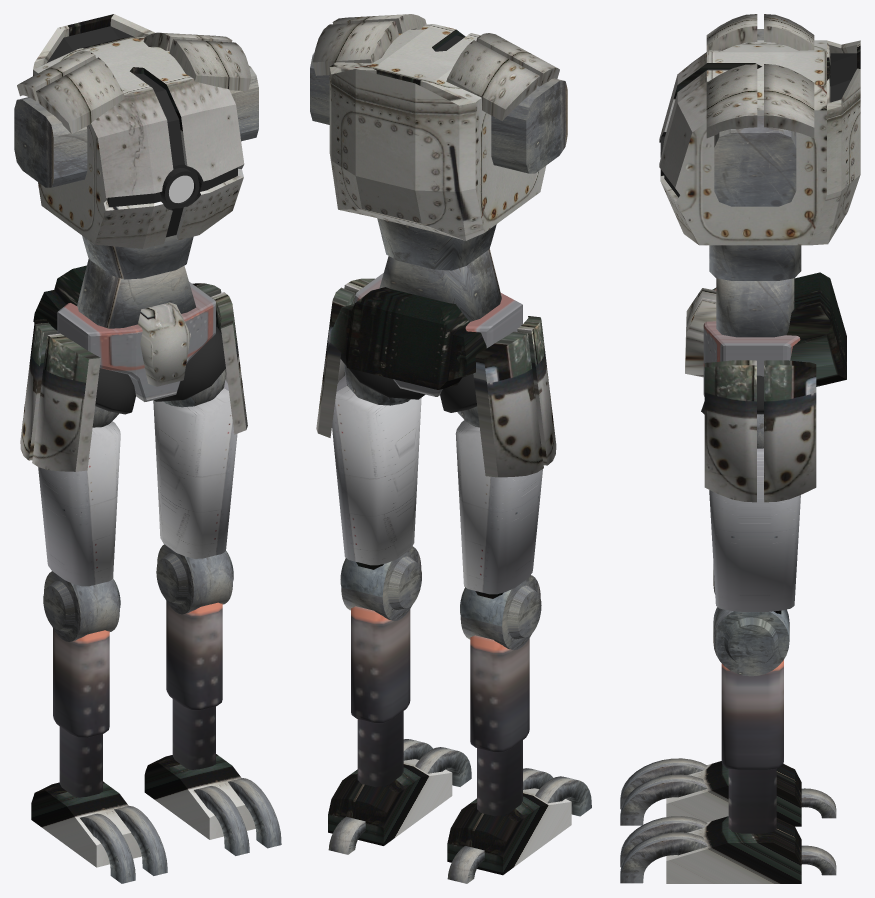
File: Robot 5 chasis and legs.fbx
3 renders of one model, left to right at view 1: azimuth 30°, elevation 25°; view 2: azimuth 150°, elevation 25°; view 3: azimuth 270°, elevation 25°, orthographic. The views are drawn at different scales.
Parts seen in each view (by area): view 1: Cube.017, Icosphere, Icosphere.001, Cylinder.003, Cylinder.004, Cube.013, Cube.015, Cube.002, Cube.020, Cube.027, Icosphere.002, Cube.029 (+1 smaller); view 2: Cube.017, Icosphere, Icosphere.001, Cylinder.004, Cylinder.003, Cube.029, Cube.015, Cube.013, Cube.002, Cube.020, Icosphere.008, Icosphere.002; view 3: Cube.017, Icosphere.001, Cylinder.004, Cube.013, Cube.015, Cube.002, Cube.029, Cube.020, Cube.027.
Part boxes in pixels (x1=…): Cube.017: x1=14, y1=14, x2=258, y2=248; Icosphere: x1=20, y1=319, x2=120, y2=586; Icosphere.001: x1=153, y1=283, x2=247, y2=558; Cylinder.003: x1=43, y1=571, x2=120, y2=797; Cylinder.004: x1=156, y1=544, x2=233, y2=769; Cube.013: x1=144, y1=754, x2=281, y2=855; Cube.015: x1=31, y1=781, x2=167, y2=883; Cube.002: x1=77, y1=235, x2=196, y2=328; Cube.020: x1=57, y1=281, x2=215, y2=401; Cube.027: x1=137, y1=302, x2=190, y2=386; Icosphere.002: x1=154, y1=326, x2=225, y2=401; Cube.029: x1=33, y1=265, x2=86, y2=330; Cube.017: x1=310, y1=14, x2=567, y2=240; Icosphere: x1=455, y1=316, x2=556, y2=598; Icosphere.001: x1=316, y1=278, x2=421, y2=569; Cylinder.004: x1=340, y1=546, x2=421, y2=787; Cylinder.003: x1=460, y1=575, x2=541, y2=816; Cube.029: x1=330, y1=287, x2=486, y2=389; Cube.015: x1=447, y1=768, x2=591, y2=883; Cube.013: x1=328, y1=739, x2=471, y2=854; Cube.002: x1=377, y1=218, x2=501, y2=321; Cube.020: x1=355, y1=273, x2=522, y2=396; Icosphere.008: x1=440, y1=374, x2=476, y2=412; Icosphere.002: x1=340, y1=353, x2=425, y2=399; Cube.017: x1=659, y1=14, x2=860, y2=245; Icosphere.001: x1=704, y1=360, x2=816, y2=614; Cylinder.004: x1=713, y1=607, x2=789, y2=833; Cube.013: x1=620, y1=816, x2=836, y2=883; Cube.015: x1=620, y1=758, x2=836, y2=826; Cube.002: x1=709, y1=245, x2=801, y2=337; Cube.029: x1=786, y1=272, x2=846, y2=386; Cube.020: x1=703, y1=289, x2=800, y2=396; Cube.027: x1=685, y1=288, x2=716, y2=377.
Size of the model in its own units: 320 by 1131 by 309.
